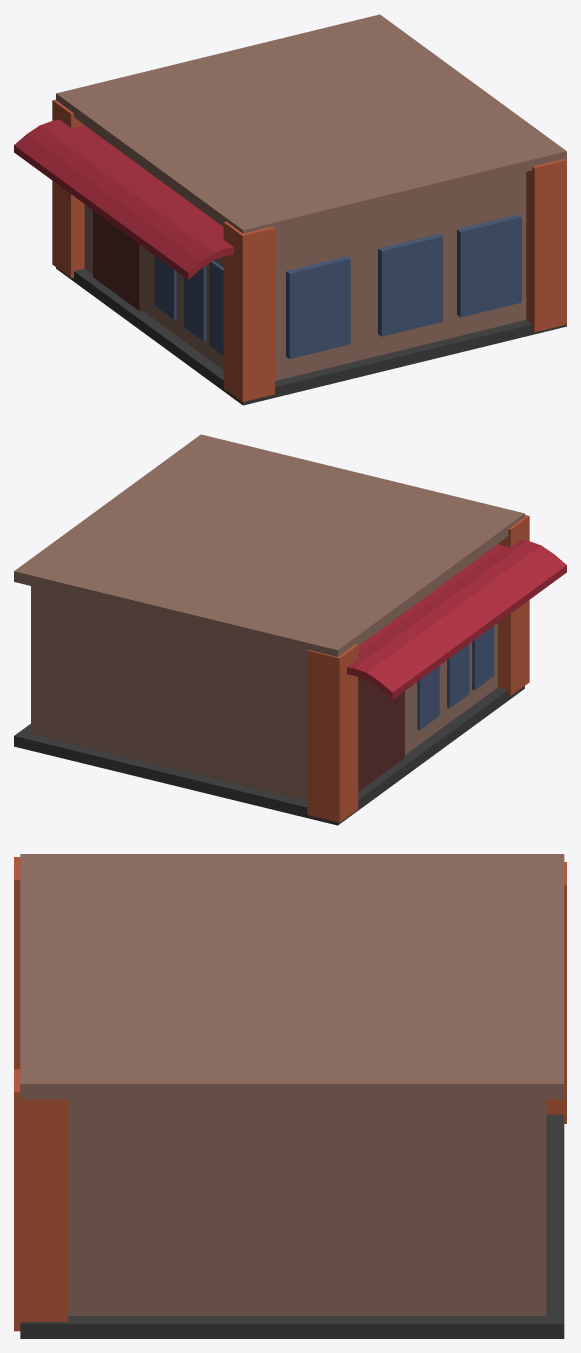
The model's file is block1.fbx.
3 renders of one model, top to bottom at view 1: azimuth 30°, elevation 25°; view 2: azimuth 150°, elevation 25°; view 3: azimuth 270°, elevation 25°, orthographic. The views are drawn at different scales.
Visible parts, largest first — view 1: Block1, Ground; view 2: Block1, Ground; view 3: Block1, Ground.
Boxes of the visible parts, x1,y1,x2,y2 form: Block1: [14, 14, 566, 402]; Ground: [56, 267, 566, 405]; Block1: [14, 434, 566, 822]; Ground: [14, 686, 524, 825]; Block1: [14, 854, 566, 1331]; Ground: [20, 1114, 564, 1338].
Bounding box in the file's own units: 246 × 111 × 218.
